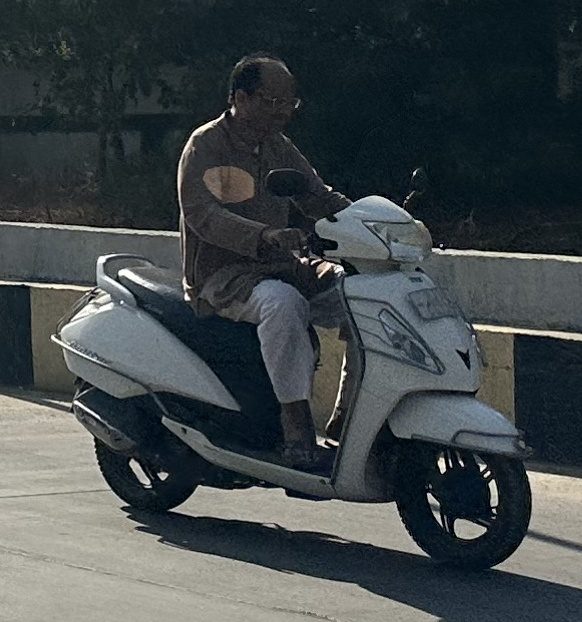BikeWithRider: (44, 42, 544, 579)
NoHelmet: (215, 46, 309, 140)
